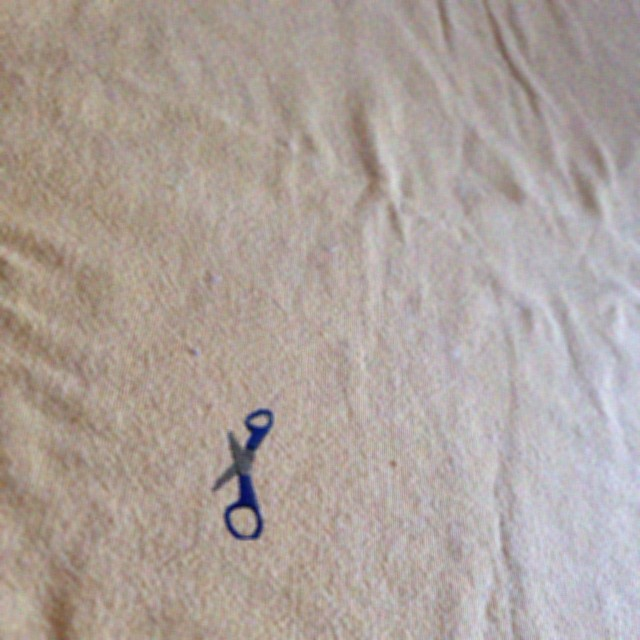scissors: (212, 408, 273, 539)
